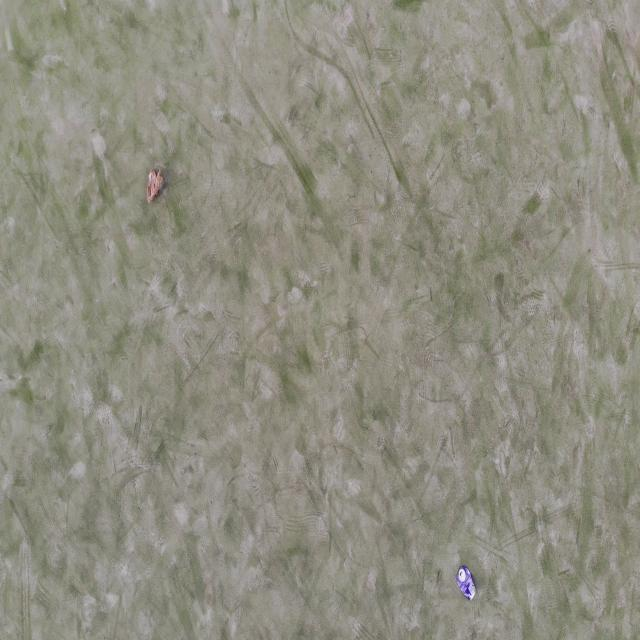rubbish: (455, 565, 476, 601), (146, 166, 164, 202)
